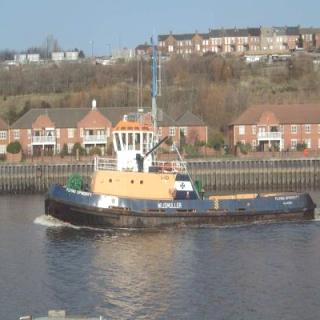Tug Boat: (43, 117, 314, 225)
